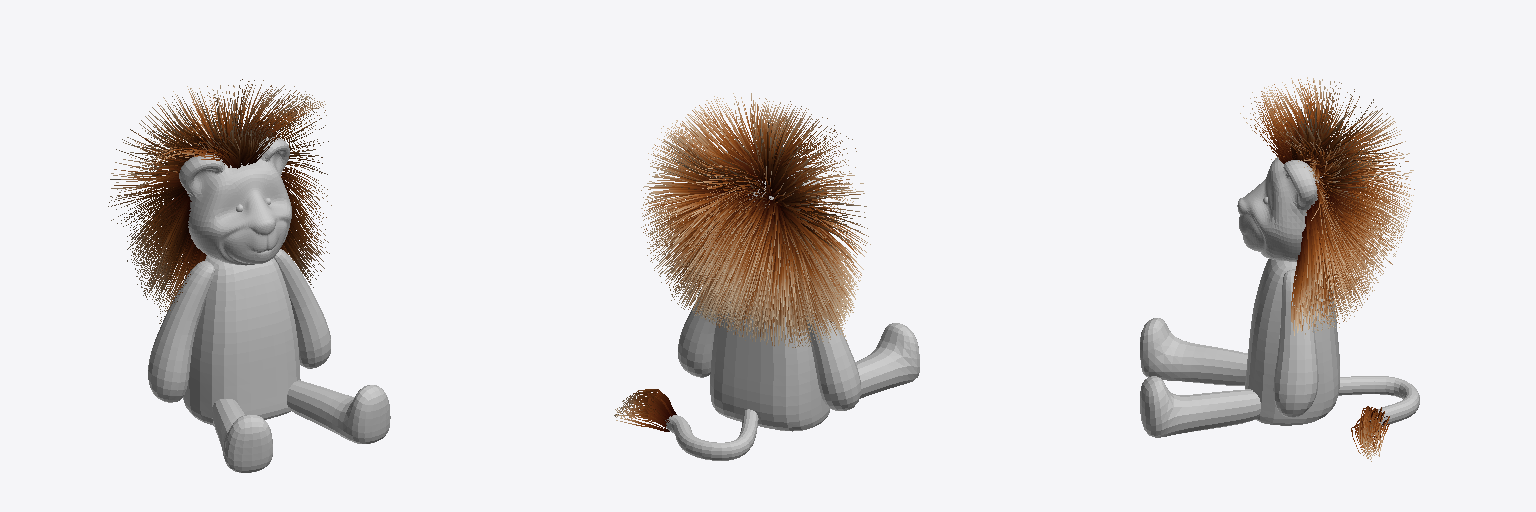
3 views of the same model, side by side, from view 1: azimuth 30°, elevation 25°; view 2: azimuth 150°, elevation 25°; view 3: azimuth 270°, elevation 25° (orthographic).
Visible parts, largest first — view 1: Plane.1960_Plane.001, Cube.002_Cube.003, Cube_Cube.001, Cube.003_Cube.004, Cube.004_Cube.005; view 2: Plane.1960_Plane.001, Cube.002_Cube.003, Cube.003_Cube.004, Cube.004_Cube.005, Cube.005_Cube.006, Plane.001_Plane.002; view 3: Plane.1960_Plane.001, Cube.004_Cube.005, Cube.002_Cube.003, Cube_Cube.001, Cube.003_Cube.004, Cube.005_Cube.006, Plane.001_Plane.002.
Part boxes in pixels (bbox=[...]): Plane.1960_Plane.001: bbox=[108, 79, 331, 323]; Cube.002_Cube.003: bbox=[183, 255, 300, 425]; Cube_Cube.001: bbox=[179, 137, 291, 265]; Cube.003_Cube.004: bbox=[148, 249, 330, 402]; Cube.004_Cube.005: bbox=[211, 380, 390, 472]; Plane.1960_Plane.001: bbox=[641, 93, 870, 347]; Cube.002_Cube.003: bbox=[710, 302, 829, 431]; Cube.003_Cube.004: bbox=[678, 300, 860, 410]; Cube.004_Cube.005: bbox=[855, 323, 919, 398]; Cube.005_Cube.006: bbox=[665, 409, 758, 460]; Plane.001_Plane.002: bbox=[614, 389, 676, 431]; Plane.1960_Plane.001: bbox=[1240, 77, 1414, 335]; Cube.004_Cube.005: bbox=[1140, 318, 1260, 437]; Cube.002_Cube.003: bbox=[1245, 259, 1339, 425]; Cube_Cube.001: bbox=[1237, 132, 1326, 261]; Cube.003_Cube.004: bbox=[1273, 269, 1318, 417]; Cube.005_Cube.006: bbox=[1338, 376, 1419, 430]; Plane.001_Plane.002: bbox=[1351, 406, 1389, 461].
Bounding box in the file's own units: 1.28 × 1.62 × 1.33.
2 materials, 1 textured.